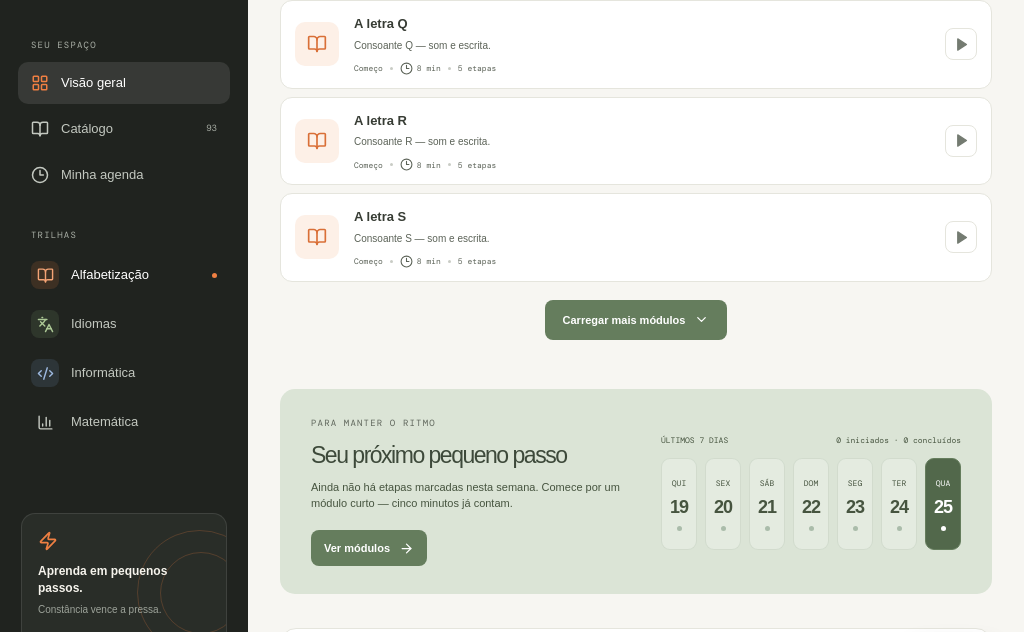
painel inicial › carrega mais módulos sob demanda
(page scrolled)
Click the button "Carregar mais módulos" at (636, 320), box [545,300,728,340]
(page scrolled)
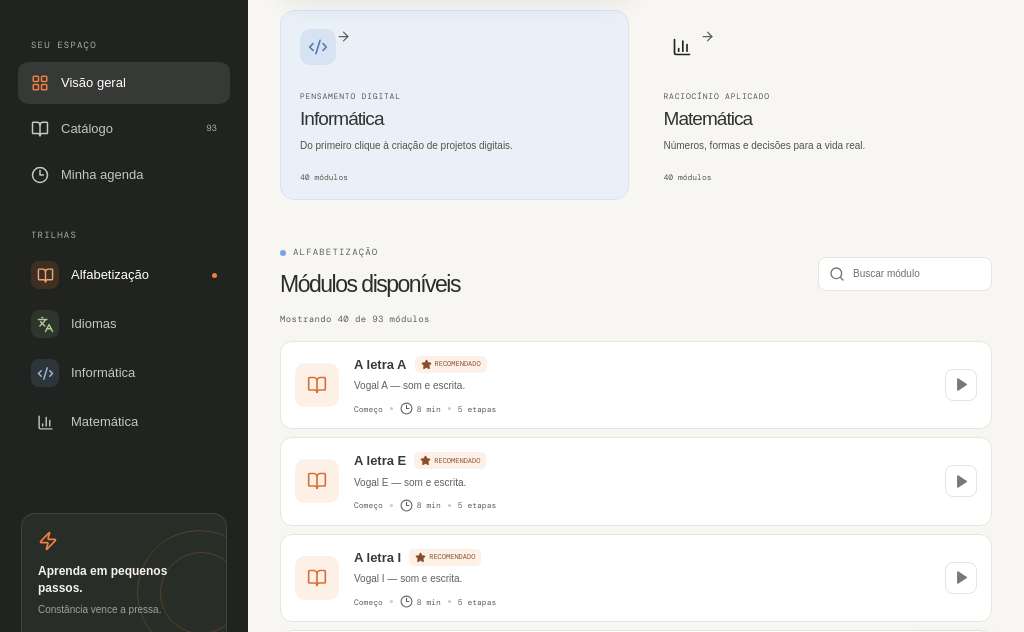
Expected: the text "Mostrando 40 de 93 módulos" is shown, [280,313,430,325]
